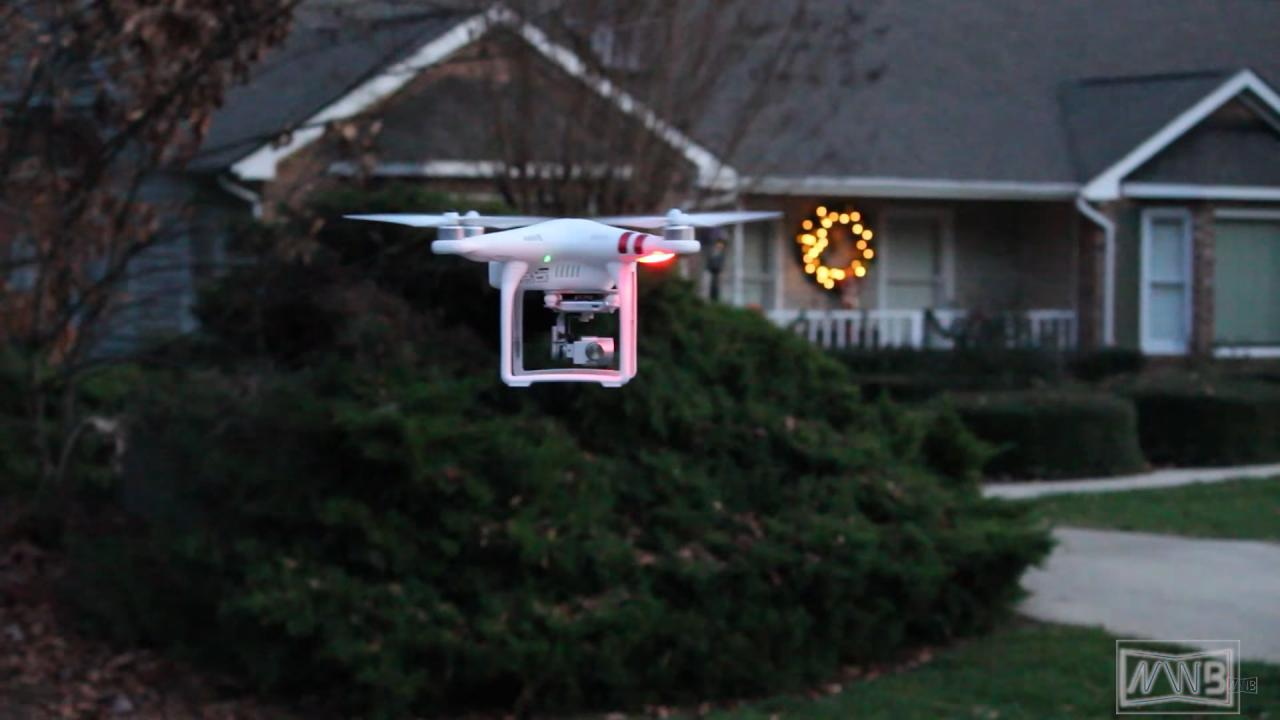Drone: (330, 193, 794, 400)
